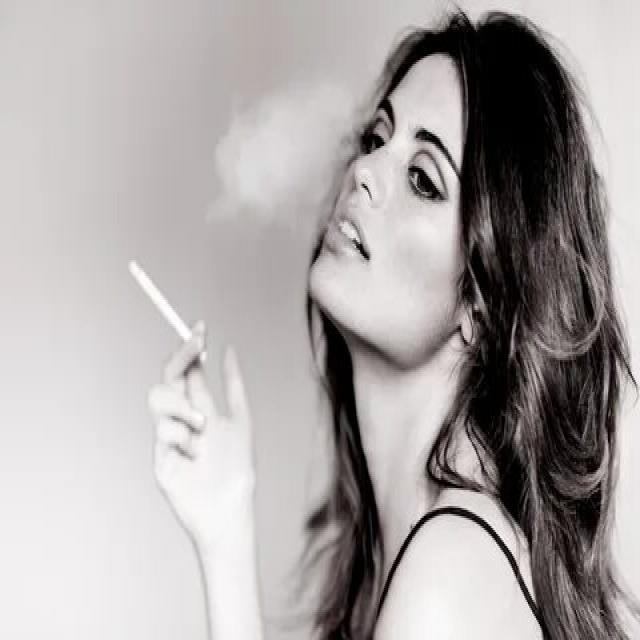smoke: (125, 250, 212, 372)
